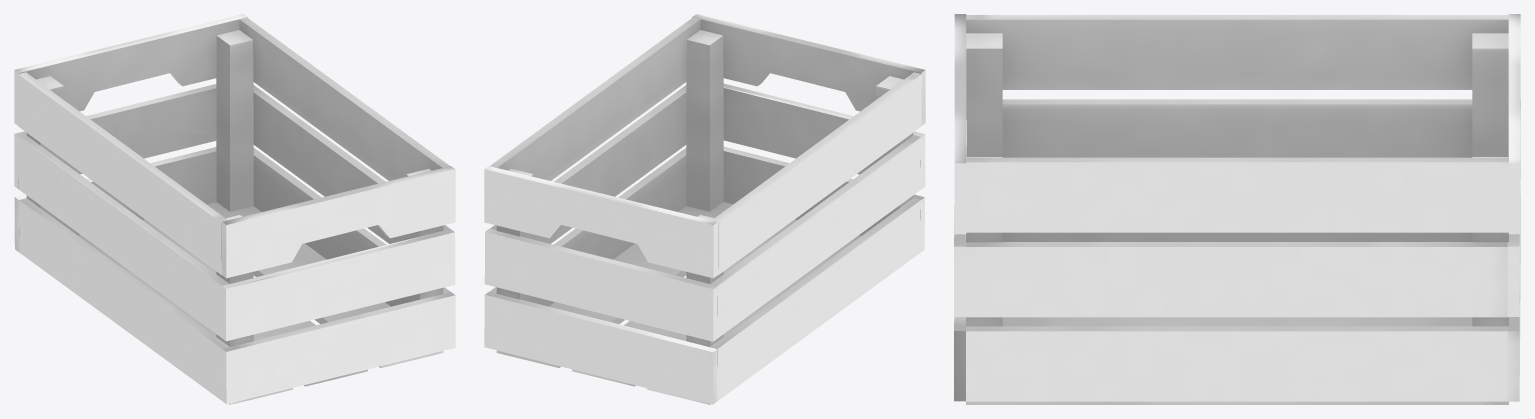
File: BoxShapes.glb
3 renders of one model, left to right at view 1: azimuth 30°, elevation 25°; view 2: azimuth 150°, elevation 25°; view 3: azimuth 270°, elevation 25°, orthographic. The views are drawn at different scales.
Visible parts, largest first — view 1: BoxShapes; view 2: BoxShapes; view 3: BoxShapes.
Part boxes in pixels (x1,y1,x2,y2): BoxShapes: [14, 14, 455, 404]; BoxShapes: [484, 14, 925, 404]; BoxShapes: [954, 14, 1520, 404].
Size of the model in its own units: 0.2932 by 0.2254 by 0.4688.
1 material, 1 textured.
